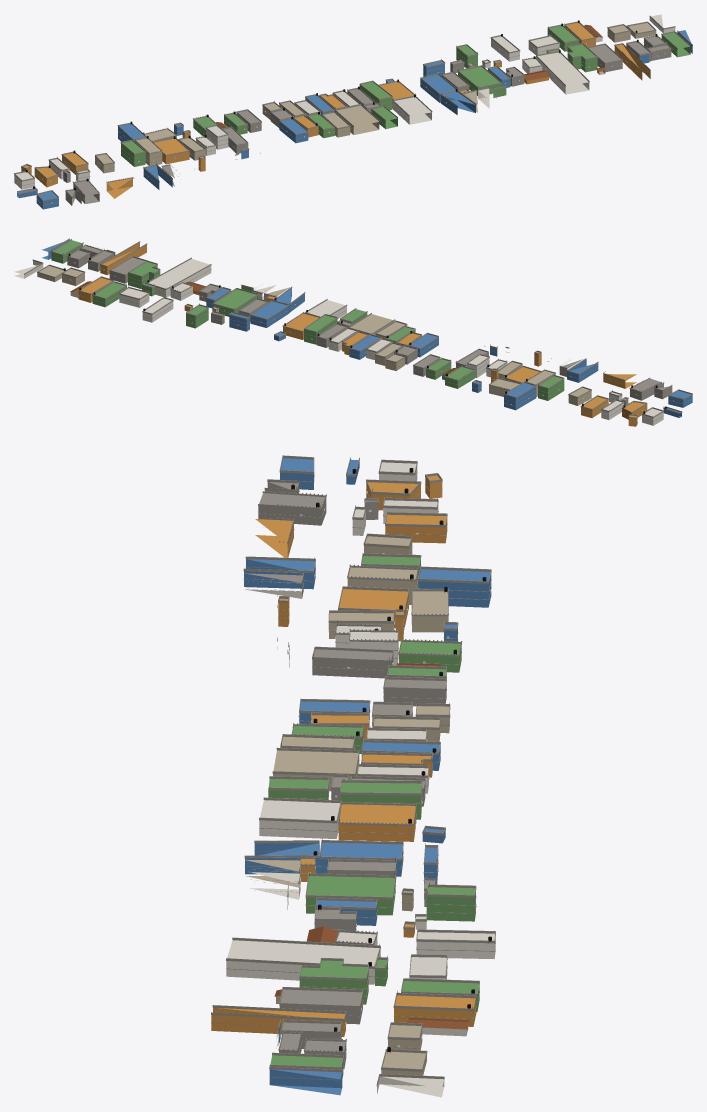
Rendered from zone_t-2_3.glb.
3 views of the same model, one above another, from view 1: azimuth 30°, elevation 25°; view 2: azimuth 150°, elevation 25°; view 3: azimuth 270°, elevation 25° (orthographic). The views are drawn at different scales.
Visible parts, largest first — view 1: parapet_t-2_3, bld_peinture_blanc_t-2_3-col, bld_peinture_vert_t-2_3-col, bld_peinture_bleu_t-2_3-col, bld_peinture_ocre_t-2_3-col, bld_beton_t-2_3-col, bld_peinture_ecaillee_t-2_3-col, bandeau_t-2_3, toit_tole_t-2_3; view 2: parapet_t-2_3, bld_peinture_blanc_t-2_3-col, bld_peinture_vert_t-2_3-col, bld_peinture_bleu_t-2_3-col, bld_beton_t-2_3-col, bld_peinture_ocre_t-2_3-col, bld_peinture_ecaillee_t-2_3-col, bandeau_t-2_3; view 3: parapet_t-2_3, bld_peinture_blanc_t-2_3-col, bld_peinture_ocre_t-2_3-col, bld_peinture_vert_t-2_3-col, bld_peinture_bleu_t-2_3-col, bld_beton_t-2_3-col, bld_peinture_ecaillee_t-2_3-col, bandeau_t-2_3, toit_tole_t-2_3.
Part boxes in pixels (left/top/right/bottom): parapet_t-2_3: left=14, top=15, right=692, bottom=201; bld_peinture_blanc_t-2_3-col: left=14, top=14, right=675, bottom=189; bld_peinture_vert_t-2_3-col: left=121, top=26, right=690, bottom=166; bld_peinture_bleu_t-2_3-col: left=17, top=30, right=692, bottom=209; bld_peinture_ocre_t-2_3-col: left=21, top=23, right=650, bottom=198; bld_beton_t-2_3-col: left=63, top=36, right=671, bottom=205; bld_peinture_ecaillee_t-2_3-col: left=95, top=23, right=656, bottom=173; bandeau_t-2_3: left=14, top=32, right=692, bottom=205; toit_tole_t-2_3: left=216, top=24, right=605, bottom=128; parapet_t-2_3: left=24, top=238, right=692, bottom=418; bld_peinture_blanc_t-2_3-col: left=14, top=259, right=663, bottom=425; bld_peinture_vert_t-2_3-col: left=51, top=240, right=564, bottom=400; bld_peinture_bleu_t-2_3-col: left=42, top=240, right=692, bottom=417; bld_beton_t-2_3-col: left=67, top=246, right=672, bottom=405; bld_peinture_ocre_t-2_3-col: left=78, top=242, right=647, bottom=426; bld_peinture_ecaillee_t-2_3-col: left=37, top=266, right=591, bottom=405; bandeau_t-2_3: left=49, top=246, right=692, bottom=422; parapet_t-2_3: left=211, top=455, right=495, bottom=1086; bld_peinture_blanc_t-2_3-col: left=226, top=462, right=495, bottom=1097; bld_peinture_ocre_t-2_3-col: left=211, top=475, right=476, bottom=1036; bld_peinture_vert_t-2_3-col: left=268, top=556, right=479, bottom=1078; bld_peinture_bleu_t-2_3-col: left=244, top=458, right=491, bottom=1095; bld_beton_t-2_3-col: left=244, top=482, right=446, bottom=1069; bld_peinture_ecaillee_t-2_3-col: left=245, top=536, right=449, bottom=1075; bandeau_t-2_3: left=211, top=471, right=495, bottom=1080; toit_tole_t-2_3: left=274, top=663, right=469, bottom=1029.
Bounding box in the file's own units: 509 × 11 × 97.34.
